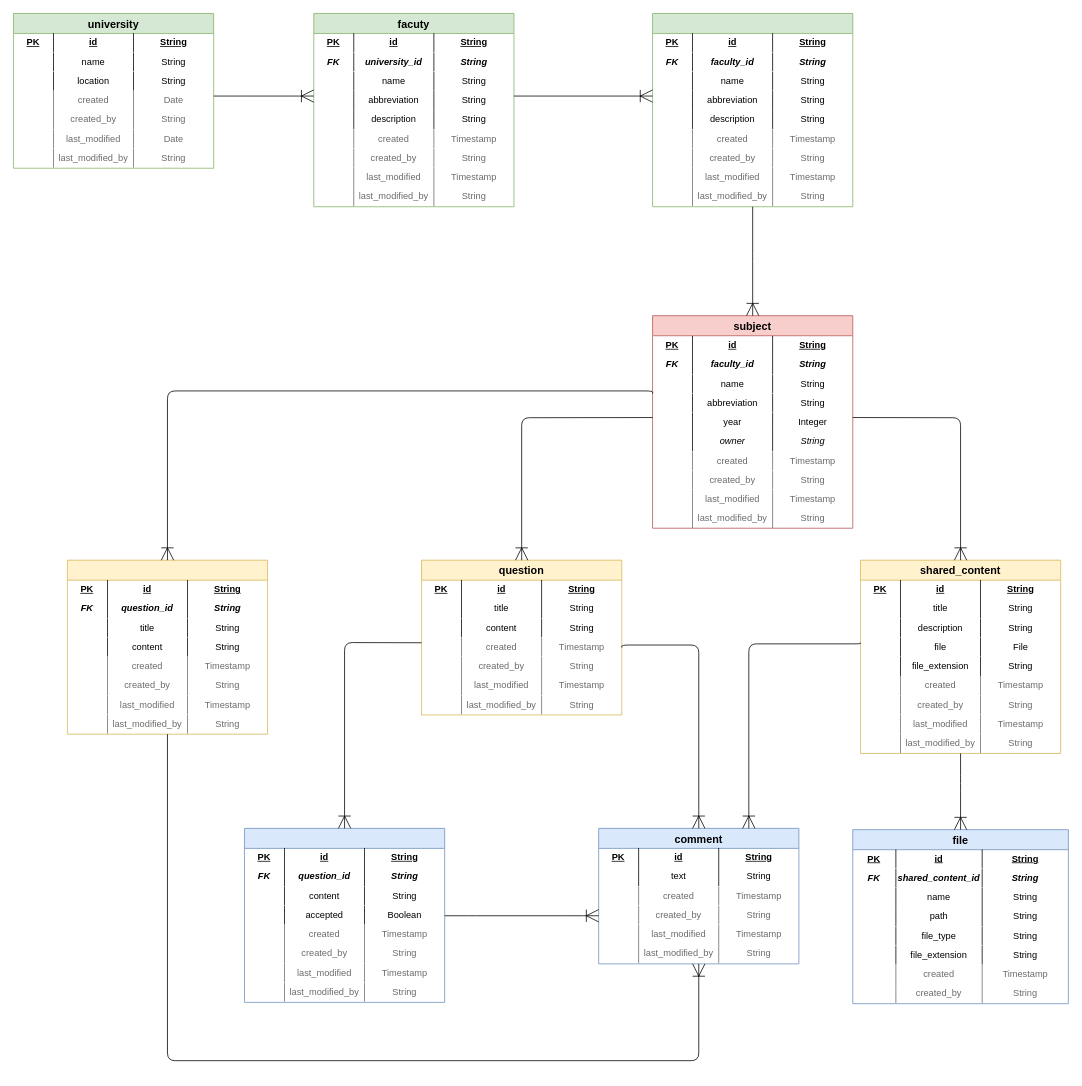
This 1082x1086 diagram has some shape labels left out. Each missing label, with the box of its shape:
answer: (244, 828, 445, 1002)
post: (67, 559, 268, 734)
student_program: (652, 13, 853, 207)
